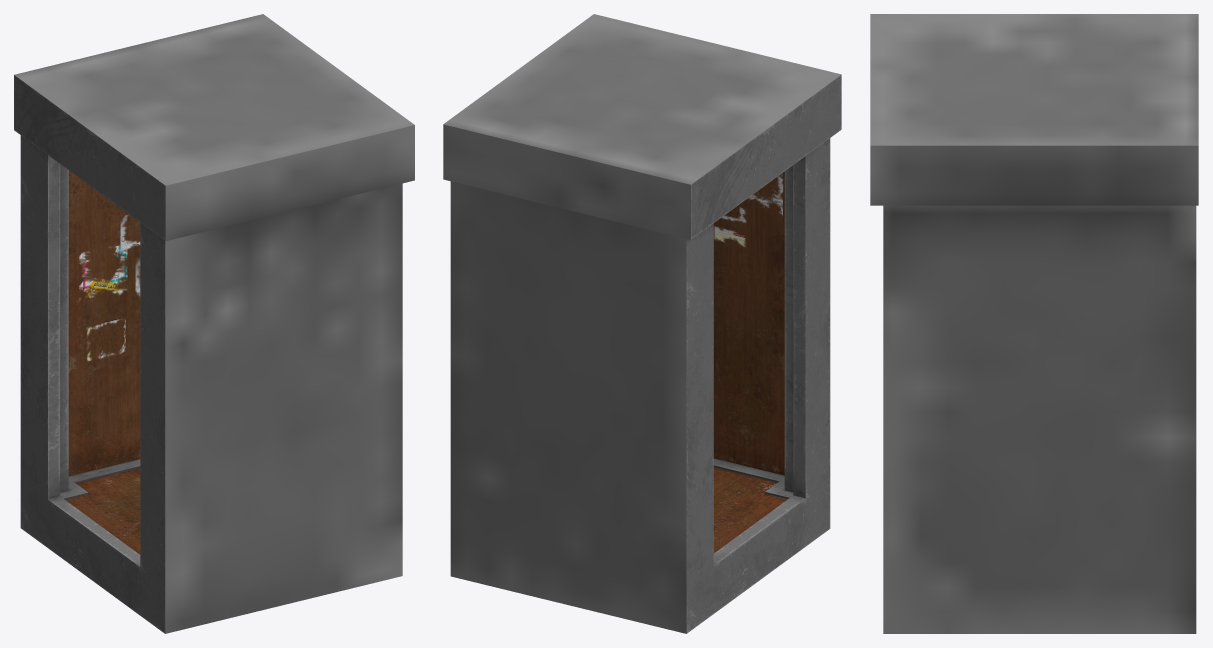
The model's file is cabin1_1.fbx.
3 renders of one model, left to right at view 1: azimuth 30°, elevation 25°; view 2: azimuth 150°, elevation 25°; view 3: azimuth 270°, elevation 25°, orthographic. The views are drawn at different scales.
Parts seen in each view (by area): view 1: Low.002; view 2: Low.002; view 3: Low.002.
Boxes of the visible parts, left/top/right/bottom form: Low.002: left=14, top=14, right=414, bottom=633; Low.002: left=443, top=14, right=841, bottom=633; Low.002: left=870, top=14, right=1198, bottom=633.
Bounding box in the file's own units: 223 × 235 × 388.
